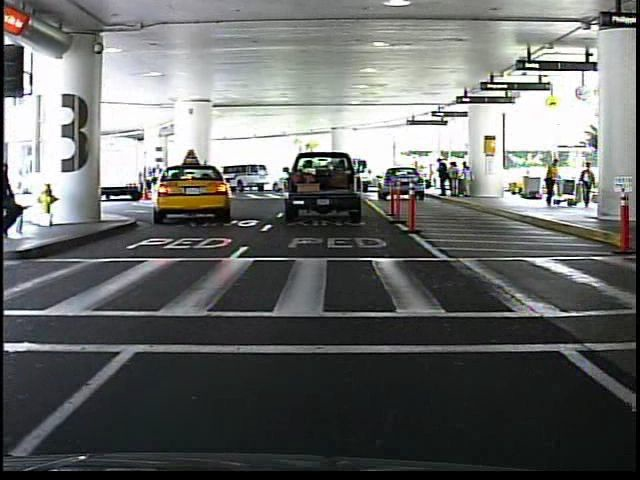person: (2, 161, 30, 238), (540, 154, 563, 210), (578, 159, 597, 212), (411, 160, 424, 192)
